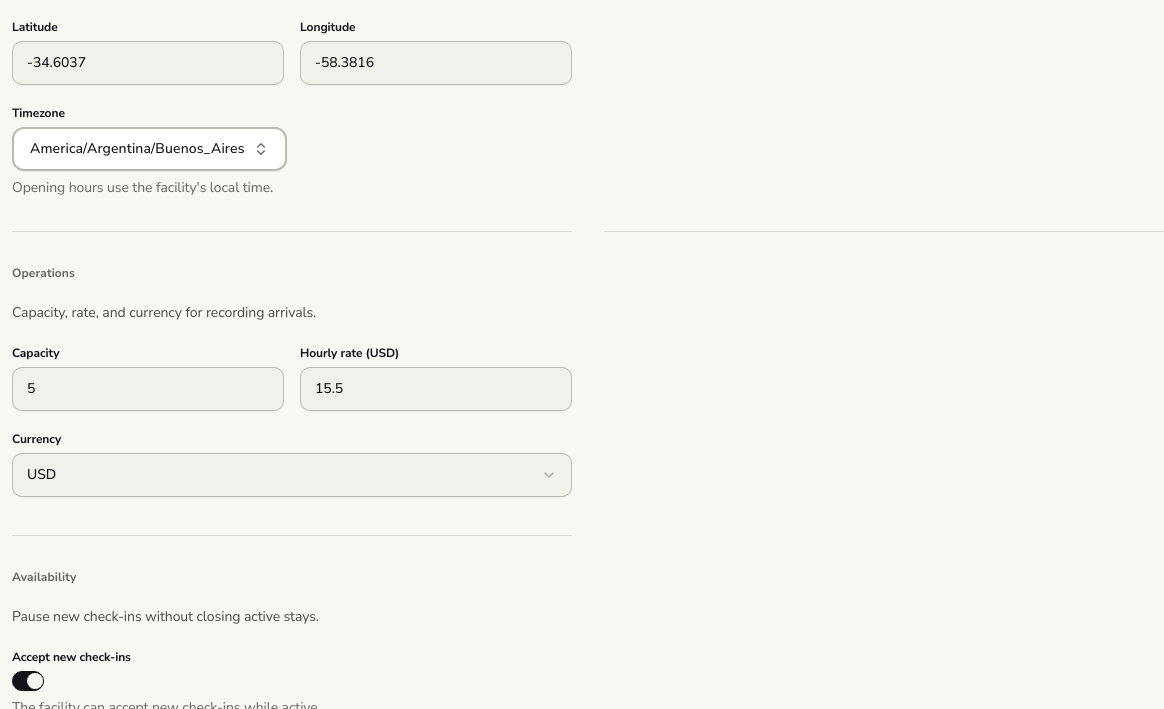
Scenario: edit parking workflow › shows the server active-session count for a rejected capacity reduction
(page scrolled)
Replace the text in the number field labelled "Capacity" with "3" at (148, 389), box 12,367 -> 284,411
(page scrolled)
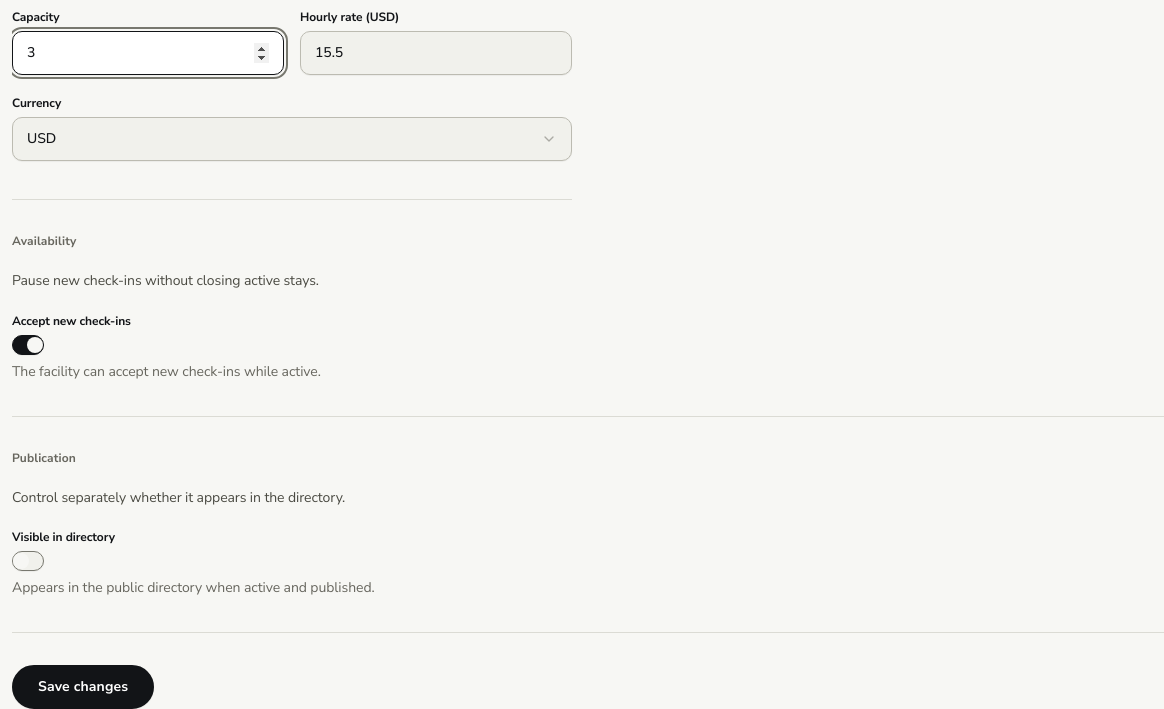
Click the button "Save changes" at (83, 687), box 12,665 -> 154,708
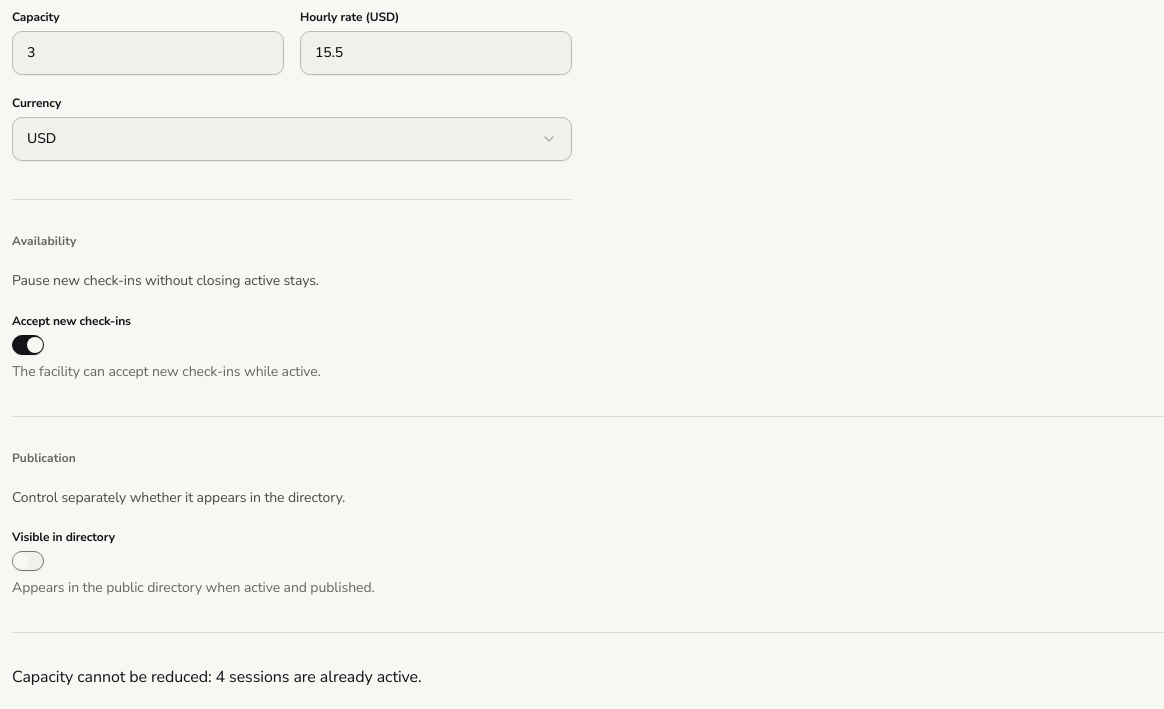
Expected: the message reads "Capacity cannot be reduced: 4 sessions are already active.", 12,666 -> 422,688
